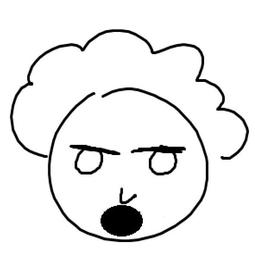empty_eye: (138, 147, 181, 178), (71, 148, 104, 176)
nose: (115, 185, 141, 206)
open_mouth: (95, 203, 145, 238)
